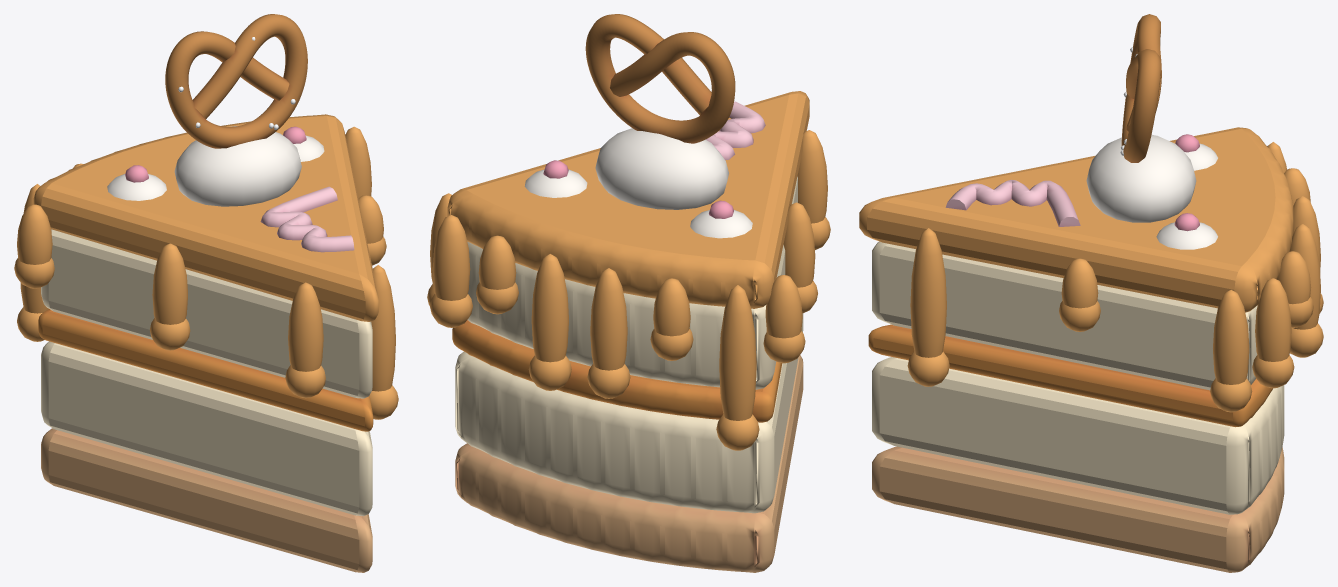
File: pretzelcake.glb
3 renders of one model, left to right at view 1: azimuth 30°, elevation 25°; view 2: azimuth 150°, elevation 25°; view 3: azimuth 270°, elevation 25°, orthographic. The views are drawn at different scales.
Visible parts, largest first — view 1: cfff0cf, geda95e, biscuit, pretzel_dough, caramel, cfffaf3, drizzle, gf4a1b8; view 2: geda95e, cfff0cf, biscuit, pretzel_dough, cfffaf3, caramel, drizzle, gf4a1b8; view 3: cfff0cf, geda95e, biscuit, caramel, cfffaf3, pretzel_dough, drizzle, gf4a1b8.
Part boxes in pixels (x1=…): cfff0cf: x1=41, y1=229, x2=372, y2=516; geda95e: x1=14, y1=114, x2=398, y2=419; biscuit: x1=41, y1=428, x2=372, y2=572; pretzel_dough: x1=165, y1=14, x2=307, y2=148; caramel: x1=38, y1=309, x2=373, y2=431; cfffaf3: x1=107, y1=126, x2=324, y2=206; drizzle: x1=260, y1=186, x2=354, y2=252; gf4a1b8: x1=125, y1=126, x2=306, y2=182; geda95e: x1=427, y1=91, x2=830, y2=450; cfff0cf: x1=455, y1=176, x2=803, y2=513; biscuit: x1=455, y1=355, x2=803, y2=572; pretzel_dough: x1=585, y1=14, x2=735, y2=143; cfffaf3: x1=524, y1=128, x2=752, y2=238; caramel: x1=452, y1=320, x2=782, y2=422; drizzle: x1=706, y1=101, x2=765, y2=160; gf4a1b8: x1=543, y1=160, x2=733, y2=218; cfff0cf: x1=872, y1=241, x2=1284, y2=514; geda95e: x1=859, y1=127, x2=1323, y2=412; biscuit: x1=872, y1=446, x2=1284, y2=572; caramel: x1=868, y1=324, x2=1272, y2=427; cfffaf3: x1=1086, y1=135, x2=1217, y2=249; pretzel_dough: x1=1121, y1=14, x2=1161, y2=162; drizzle: x1=945, y1=179, x2=1080, y2=226; gf4a1b8: x1=1174, y1=134, x2=1199, y2=231.
Bounding box in the file's own units: 0.4583 × 0.5655 × 0.5072.
